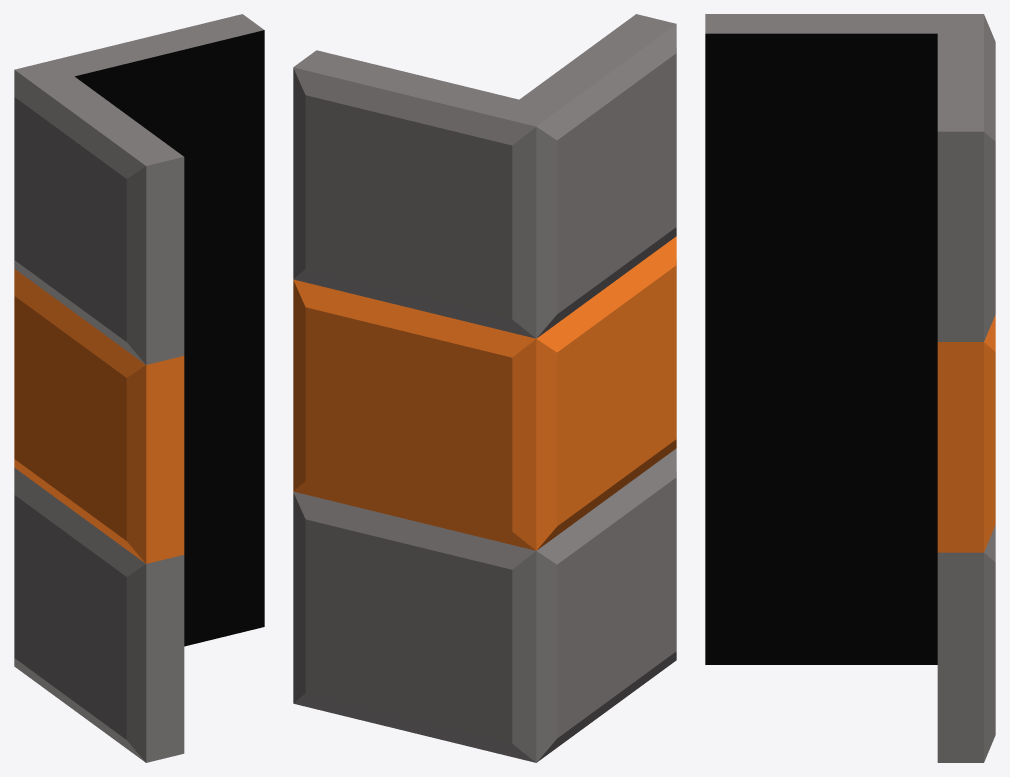
The model's file is scifi-wall-edge-stripe.glb.
3 views of the same model, side by side, from view 1: azimuth 30°, elevation 25°; view 2: azimuth 150°, elevation 25°; view 3: azimuth 270°, elevation 25° (orthographic). The views are drawn at different scales.
Parts seen in each view (by area): view 1: scifi-wall-edge-stripe; view 2: scifi-wall-edge-stripe; view 3: scifi-wall-edge-stripe.
Boxes of the visible parts, <box> form: scifi-wall-edge-stripe: <box>14,14,264,762</box>; scifi-wall-edge-stripe: <box>293,14,676,762</box>; scifi-wall-edge-stripe: <box>705,14,995,762</box>.
Bounding box in the file's own units: 1.25 × 3 × 1.25.
1 material, 1 textured.
